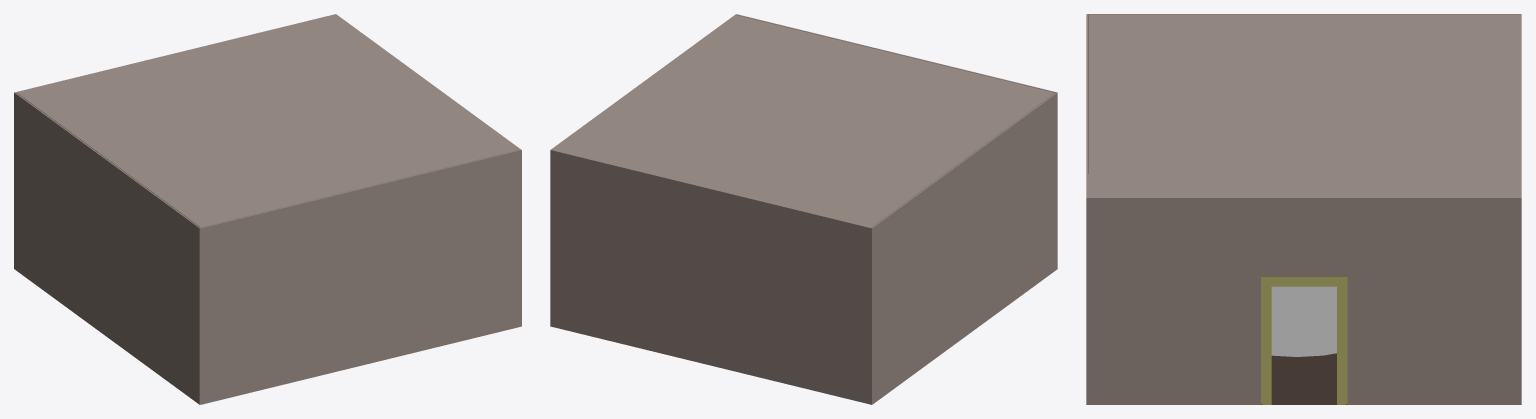
File: Room37_PentagramChamber.fbx
3 renders of one model, left to right at view 1: azimuth 30°, elevation 25°; view 2: azimuth 150°, elevation 25°; view 3: azimuth 270°, elevation 25°, orthographic. The views are drawn at different scales.
Visible parts, largest first — view 1: Roof, WallPosZ, WallPosX, WallPosZ15, WallPosX9; view 2: Roof, WallNegZ, WallPosX, WallNegZ1, WallPosX9, WallPosZ, WallSlicedNegX; view 3: Roof, WallSlicedNegX, WallSlicedNegX17, pDisc4, DoorFrameNegX, Floor, WallNegZ, WallPosZ, WallPosX.
Part boxes in pixels (left/top/right/bottom): Roof: left=17, top=15, right=519, bottom=227; WallPosZ: left=200, top=150, right=521, bottom=364; WallPosX: left=14, top=92, right=200, bottom=364; WallPosZ15: left=200, top=286, right=521, bottom=404; WallPosX9: left=14, top=229, right=200, bottom=404; Roof: left=552, top=15, right=1054, bottom=227; WallNegZ: left=550, top=150, right=871, bottom=364; WallPosX: left=871, top=92, right=1057, bottom=364; WallNegZ1: left=550, top=286, right=871, bottom=404; WallPosX9: left=870, top=229, right=1057, bottom=404; WallPosZ: left=736, top=14, right=1056, bottom=92; WallSlicedNegX: left=550, top=14, right=736, bottom=285; Roof: left=1088, top=15, right=1519, bottom=197; WallSlicedNegX: left=1087, top=197, right=1521, bottom=357; WallSlicedNegX17: left=1087, top=357, right=1521, bottom=404; pDisc4: left=1271, top=286, right=1336, bottom=356; DoorFrameNegX: left=1261, top=277, right=1347, bottom=404; Floor: left=1261, top=353, right=1347, bottom=404; WallNegZ: left=1520, top=14, right=1521, bottom=357; WallPosZ: left=1086, top=14, right=1087, bottom=357; WallPosX: left=1087, top=14, right=1521, bottom=174.
Bounding box in the file's own units: 801 × 420 × 801.
